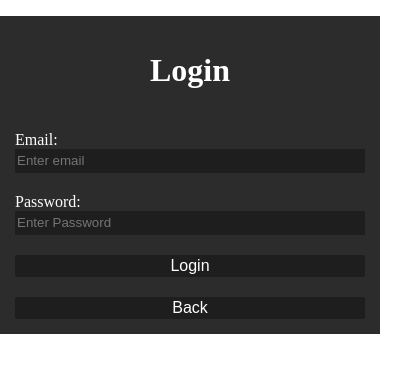
it: login component › When fields are empty login will not run and required fields should be in document
Click the button "Login" at coordinates (190, 266), box [15,255,365,277]
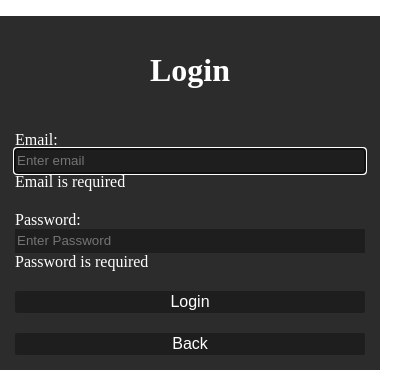
Expected: the text "Email is required" is shown, [15,173,125,190]
Expected: the text "Password is required" is shown, [15,253,148,270]
